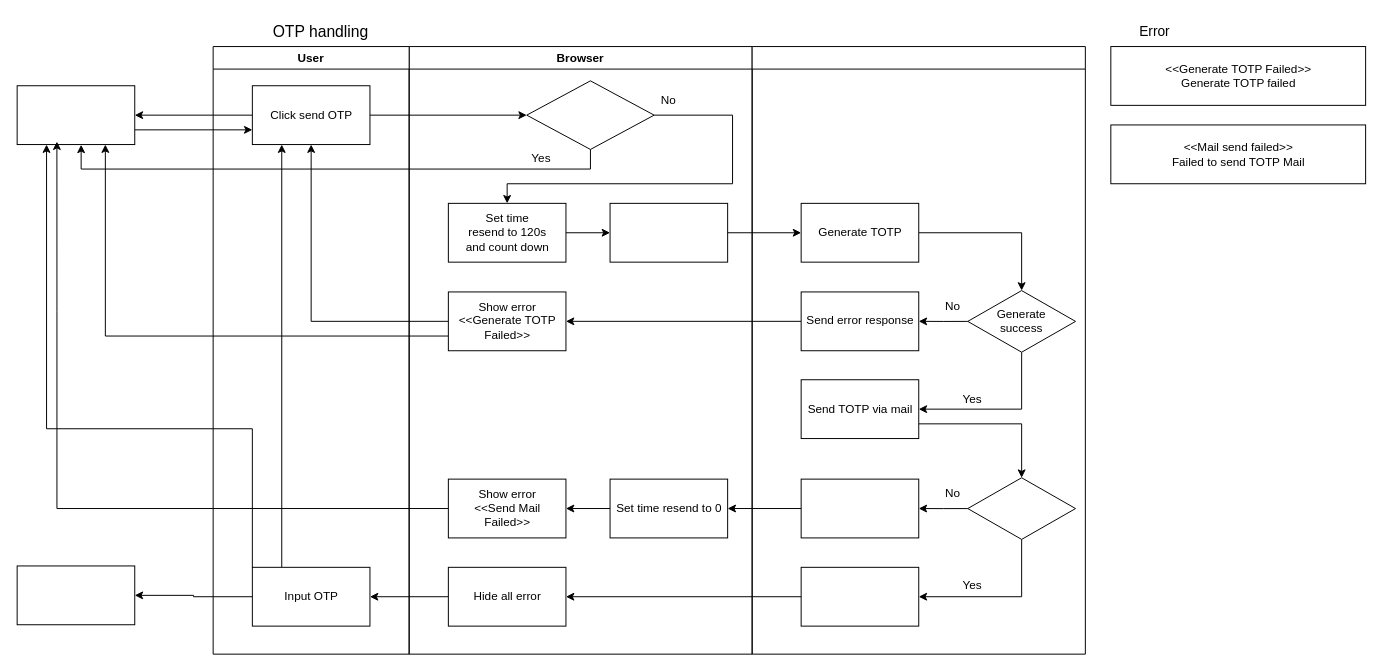
The diagram is 1383 pixels wide and 671 high, and some of its shapes have lost their labels. The shapes that lost their labels are listed below. From the top down, each one's box as (x1, y1, x2, y2) in pixels, then its label:
(16, 85, 135, 145): Idle
(526, 80, 654, 149): Time resend (120s) remain
(609, 202, 728, 262): Request OTP
(751, 46, 1085, 654): Server
(800, 478, 919, 538): Send "Mail error" response
(967, 477, 1076, 539): Send mail success
(16, 565, 135, 625): Login handling
(800, 566, 919, 626): Send Mail success response
